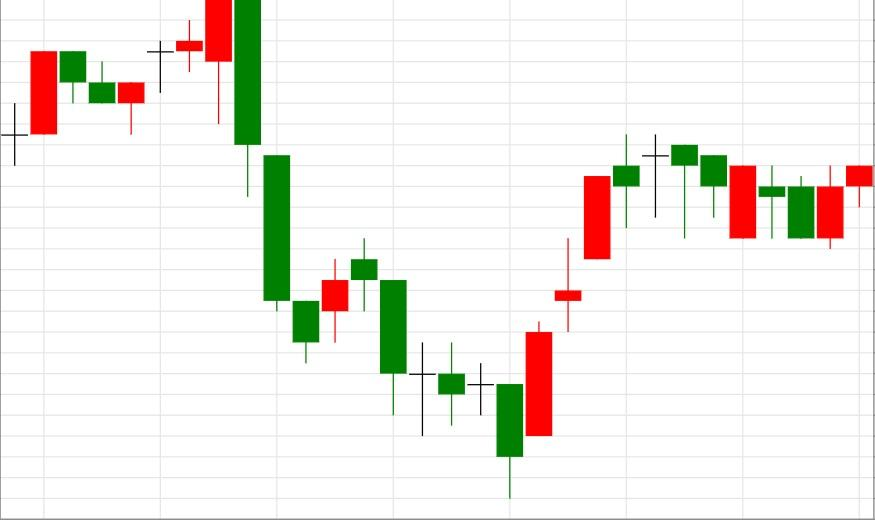bearish_engulfing_fall: (0, 0, 261, 196)
hanging_man_fall: (495, 134, 699, 499)
